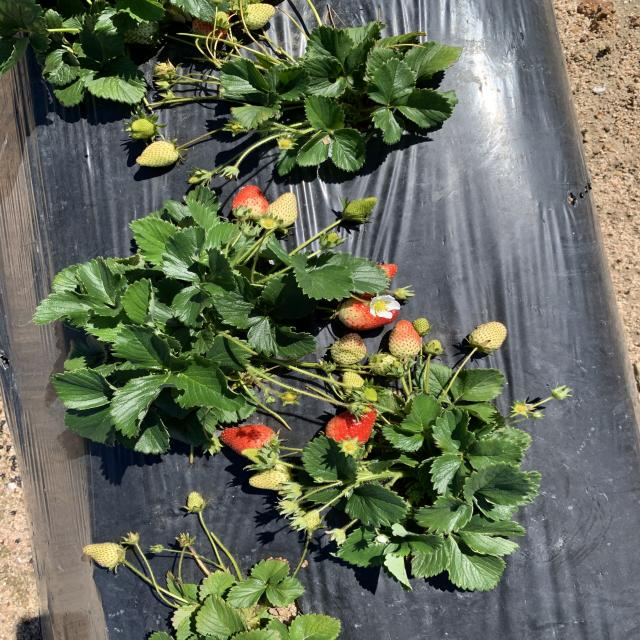unripe: (322, 404, 384, 450), (337, 296, 401, 330), (215, 425, 282, 457), (232, 183, 273, 222), (352, 259, 398, 292)
